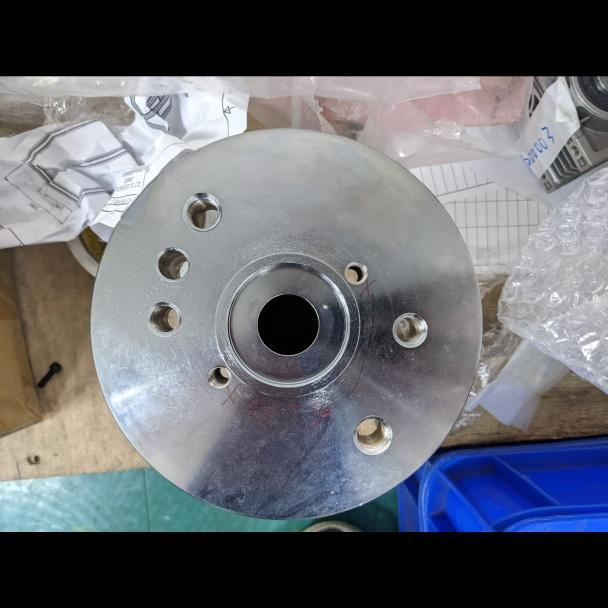hole: (344, 410, 397, 460), (386, 306, 437, 356), (141, 294, 187, 343), (180, 187, 225, 236), (150, 242, 195, 287), (338, 252, 372, 290), (203, 361, 235, 392)
